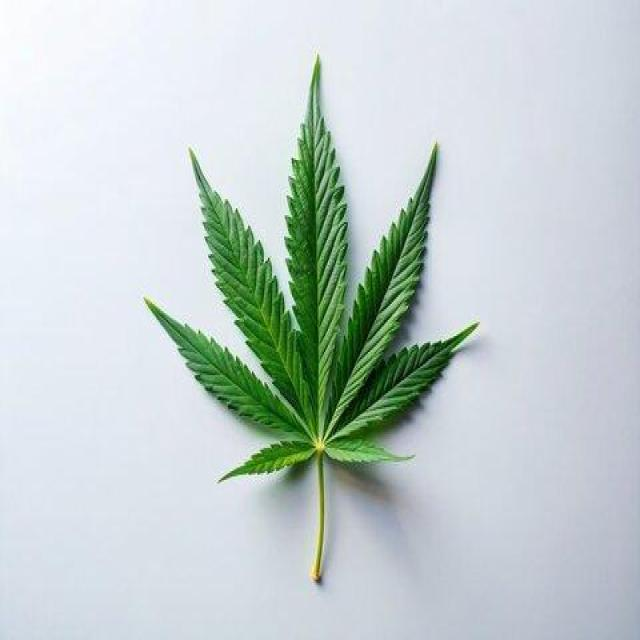cannabis: (144, 52, 480, 587)
